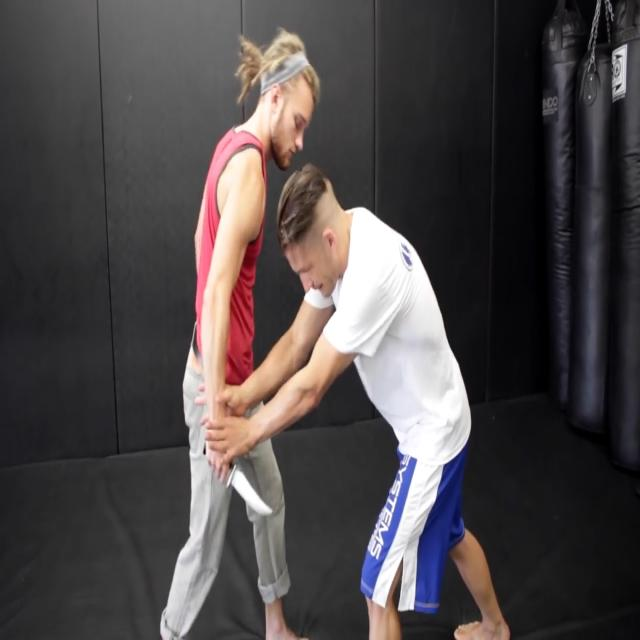knife: (228, 463, 281, 525)
